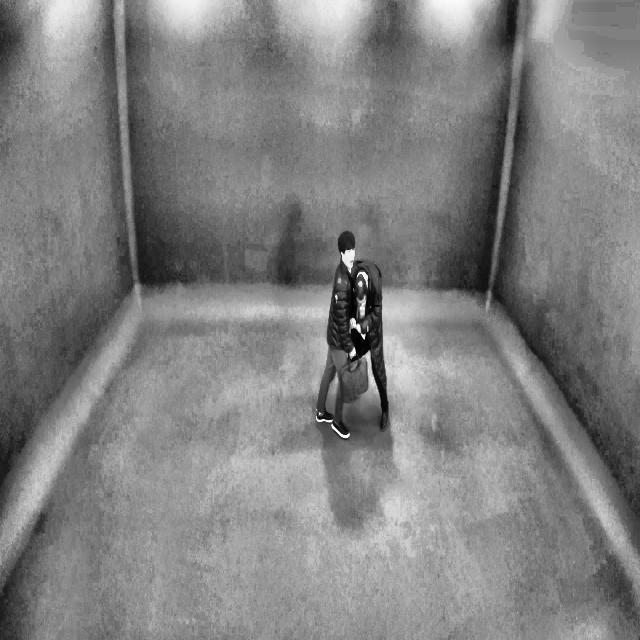assult: (310, 203, 394, 440), (317, 274, 385, 384)
